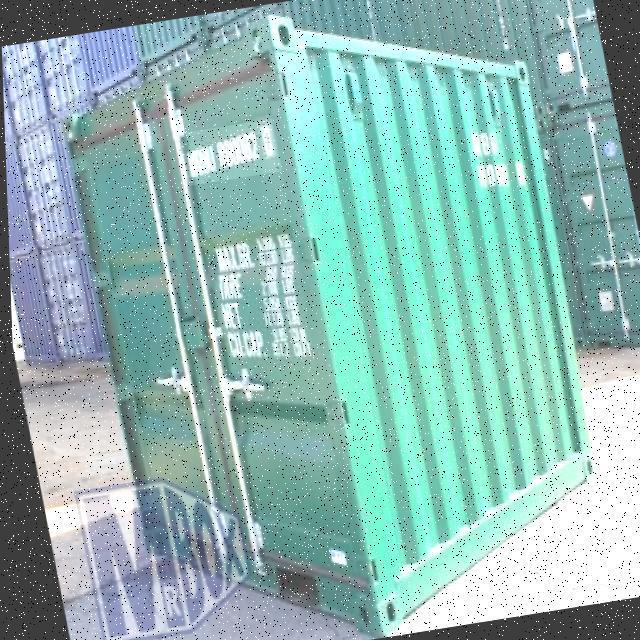container_number_h: (174, 119, 281, 187)
